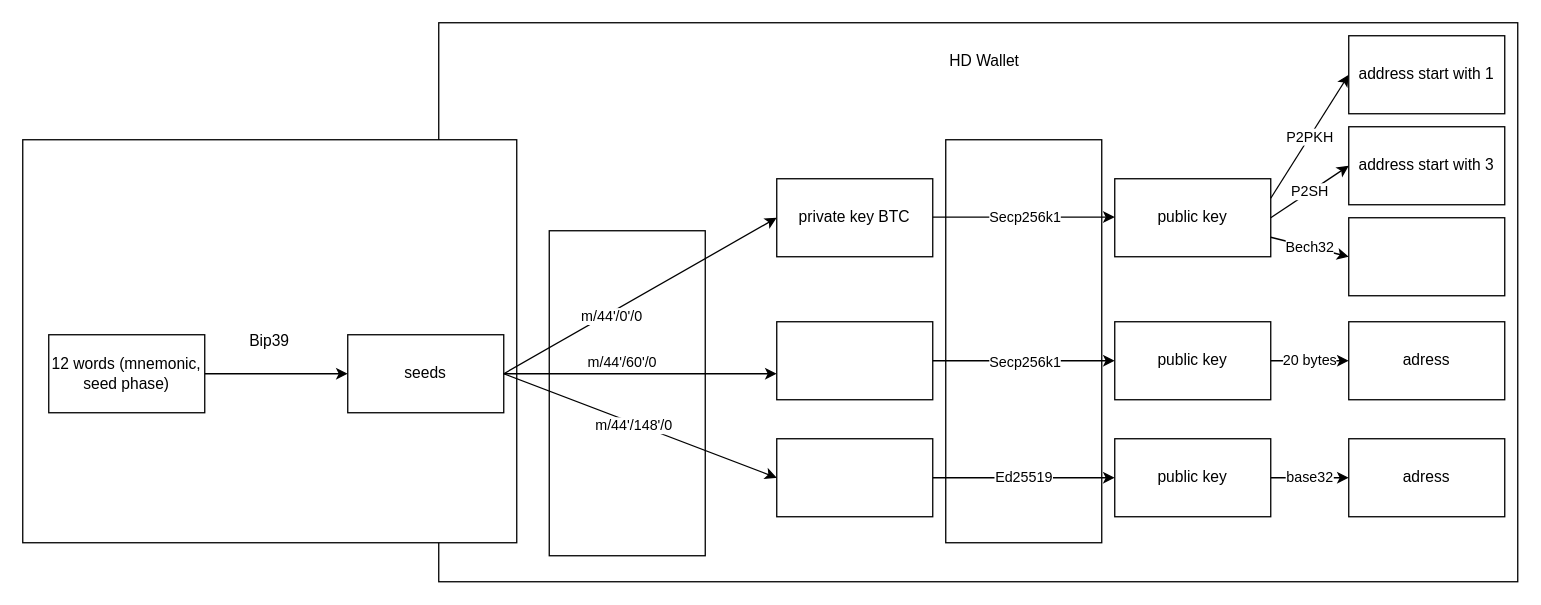
Some shapes in this 1541 by 605 pixel diagram are drawn without their labels. The shapes that lost their labels are listed below. From the top down, each one's box as (x1, y1, x2, y2) in pixels, then its label:
(1347, 216, 1505, 296): address start with bc1
(775, 320, 933, 400): private key ETH
(944, 138, 1102, 543): ECDSA
(548, 229, 705, 556): derivation path
(775, 437, 933, 517): private key XLM
